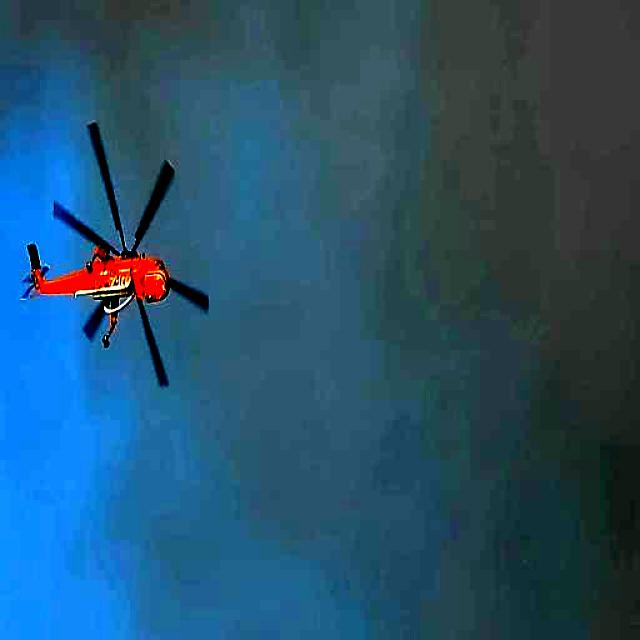drone: (18, 125, 208, 389)
